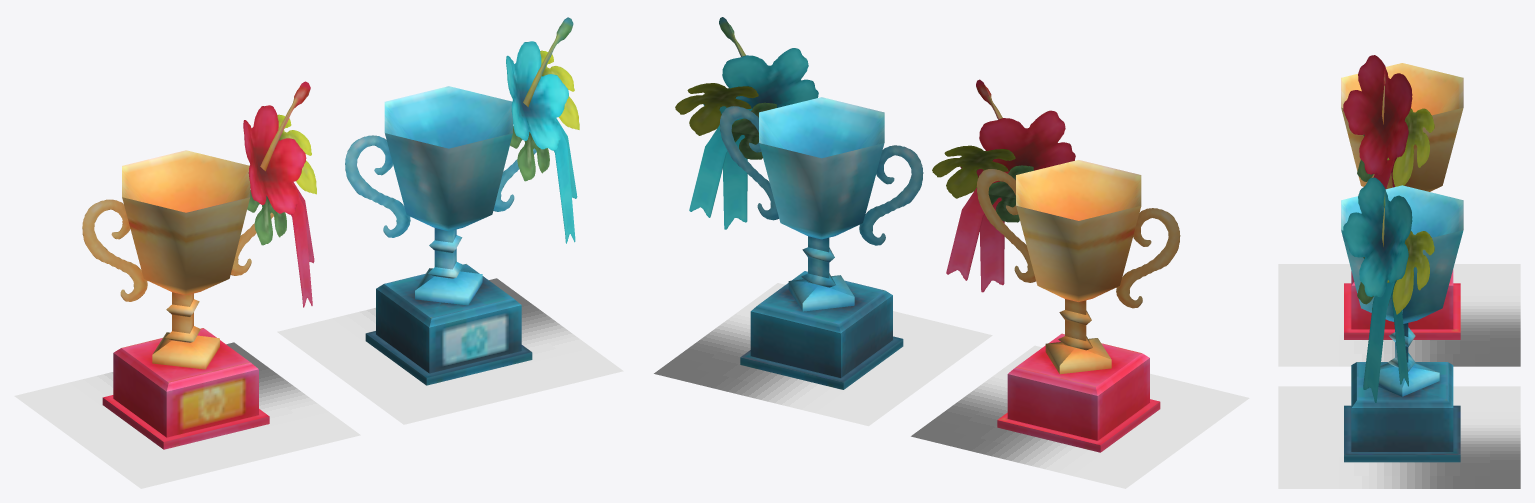
Rendered from trophies 2.dae.
The picture shows the model from 3 angles, left to right: view 1: azimuth 30°, elevation 25°; view 2: azimuth 150°, elevation 25°; view 3: azimuth 270°, elevation 25°; orthographic projection. The views are drawn at different scales.
Parts seen in each view (by area): view 1: vsn_mesh_1_mesh1, vsn_mesh_3_mesh3, vsn_mesh_4_mesh4, vsn_mesh_5_mesh5, vsn_mesh_2_mesh2, vsn_mesh_0_mesh0; view 2: vsn_mesh_1_mesh1, vsn_mesh_3_mesh3, vsn_mesh_5_mesh5, vsn_mesh_4_mesh4, vsn_mesh_2_mesh2, vsn_mesh_0_mesh0; view 3: vsn_mesh_1_mesh1, vsn_mesh_4_mesh4, vsn_mesh_5_mesh5, vsn_mesh_0_mesh0, vsn_mesh_3_mesh3, vsn_mesh_2_mesh2.
Part boxes in pixels (x1,y1,x2,y2): vsn_mesh_1_mesh1: (365,86,532,385); vsn_mesh_3_mesh3: (102,150,269,449); vsn_mesh_4_mesh4: (277,278,623,424); vsn_mesh_5_mesh5: (14,342,360,488); vsn_mesh_2_mesh2: (82,81,316,307); vsn_mesh_0_mesh0: (345,17,579,243); vsn_mesh_1_mesh1: (740,97,903,389); vsn_mesh_3_mesh3: (997,160,1160,452); vsn_mesh_5_mesh5: (911,345,1249,488); vsn_mesh_4_mesh4: (654,283,992,426); vsn_mesh_2_mesh2: (932,79,1180,308); vsn_mesh_0_mesh0: (675,17,923,245); vsn_mesh_1_mesh1: (1341,185,1463,462); vsn_mesh_4_mesh4: (1278,386,1520,488); vsn_mesh_5_mesh5: (1278,264,1520,366); vsn_mesh_0_mesh0: (1343,177,1434,402); vsn_mesh_3_mesh3: (1341,63,1463,339); vsn_mesh_2_mesh2: (1343,55,1434,188).
Bounding box in the file's own units: 1.49 × 0.5863 × 0.8087.
Materials: 3 (3 with a texture image).
